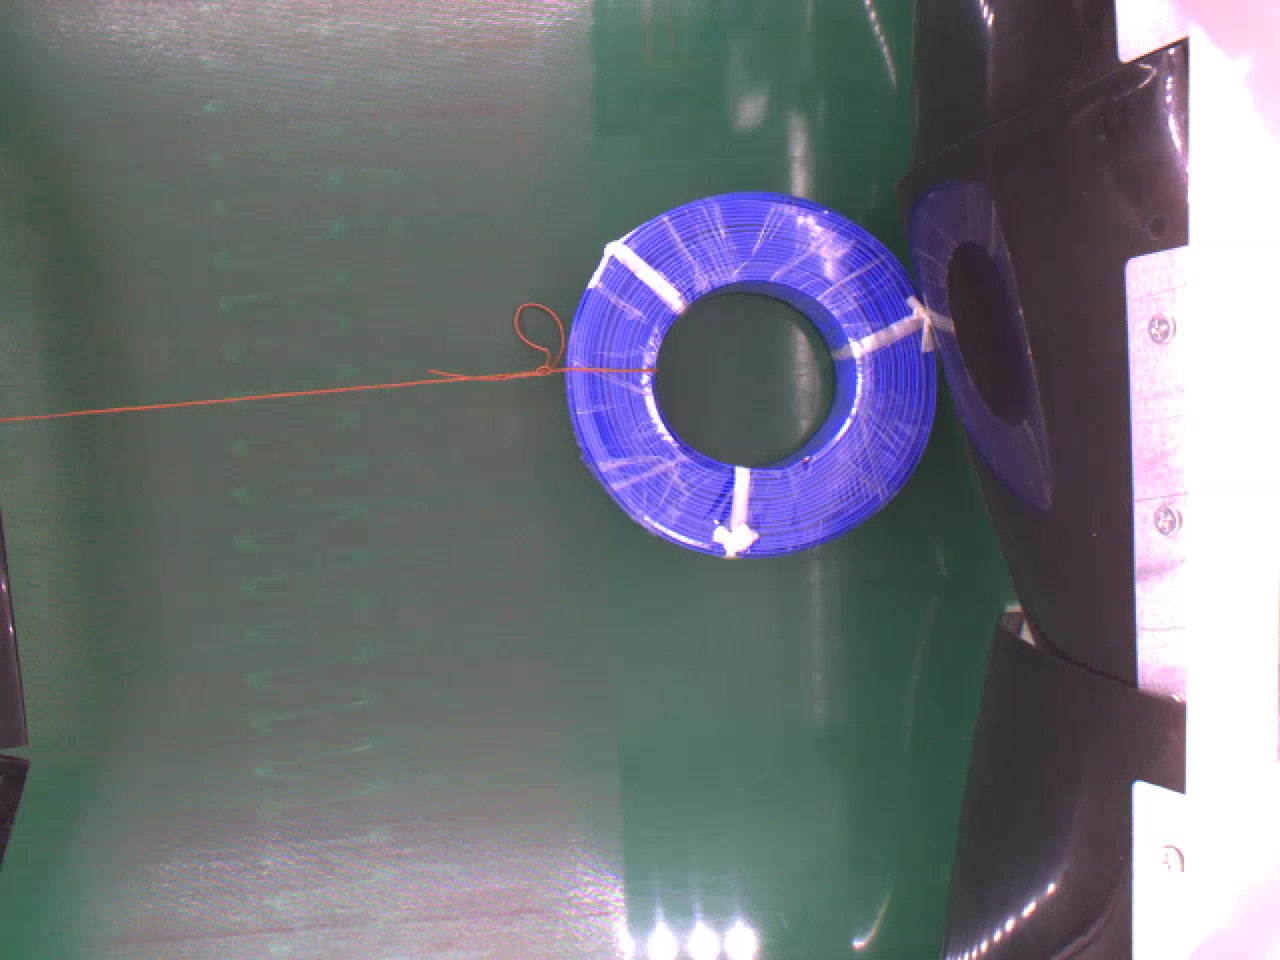blue: (563, 186, 939, 557)
